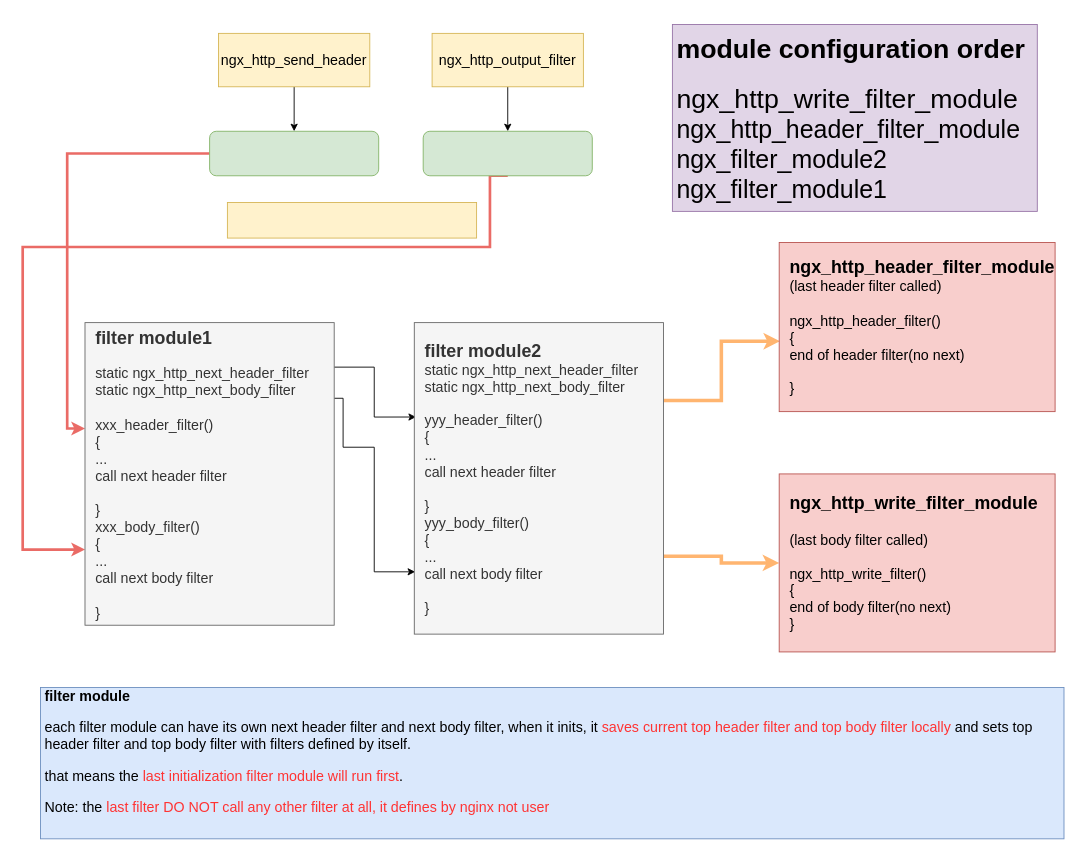
Image size: 1080x854. Some labels were removed from this diagram. Here are the shapes that lost their labels. From the top down, the centre of each, then its label:
At (294,153): "ngx_http_top_header_filter".
At (507,153): "ngx_http_top_body_filter".
At (352,220): "global filter variable".
